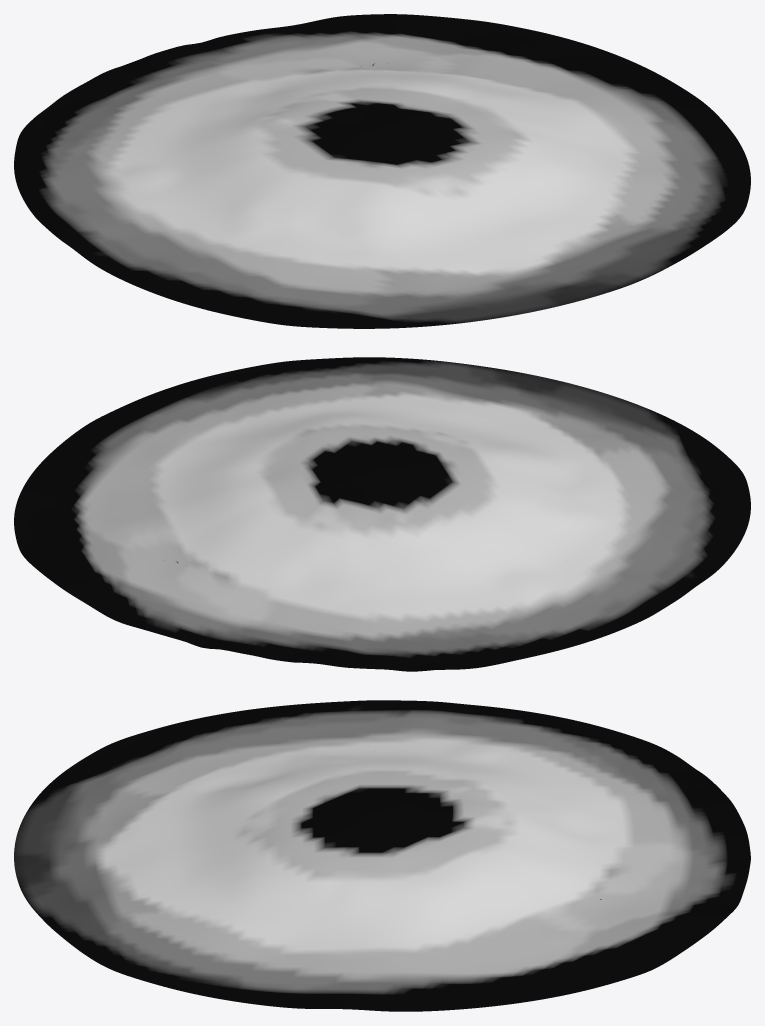
The model's file is 02_Grassland_02.fbx.
3 renders of one model, top to bottom at view 1: azimuth 30°, elevation 25°; view 2: azimuth 150°, elevation 25°; view 3: azimuth 270°, elevation 25°, orthographic. The views are drawn at different scales.
Visible parts, largest first — view 1: Grass6k_geo; view 2: Grass6k_geo; view 3: Grass6k_geo.
Part boxes in pixels (x1,y1,x2,y2): Grass6k_geo: [14, 14, 750, 328]; Grass6k_geo: [14, 357, 750, 671]; Grass6k_geo: [14, 700, 750, 1011].
Size of the model in its own units: 5152 by 326 by 5167.
